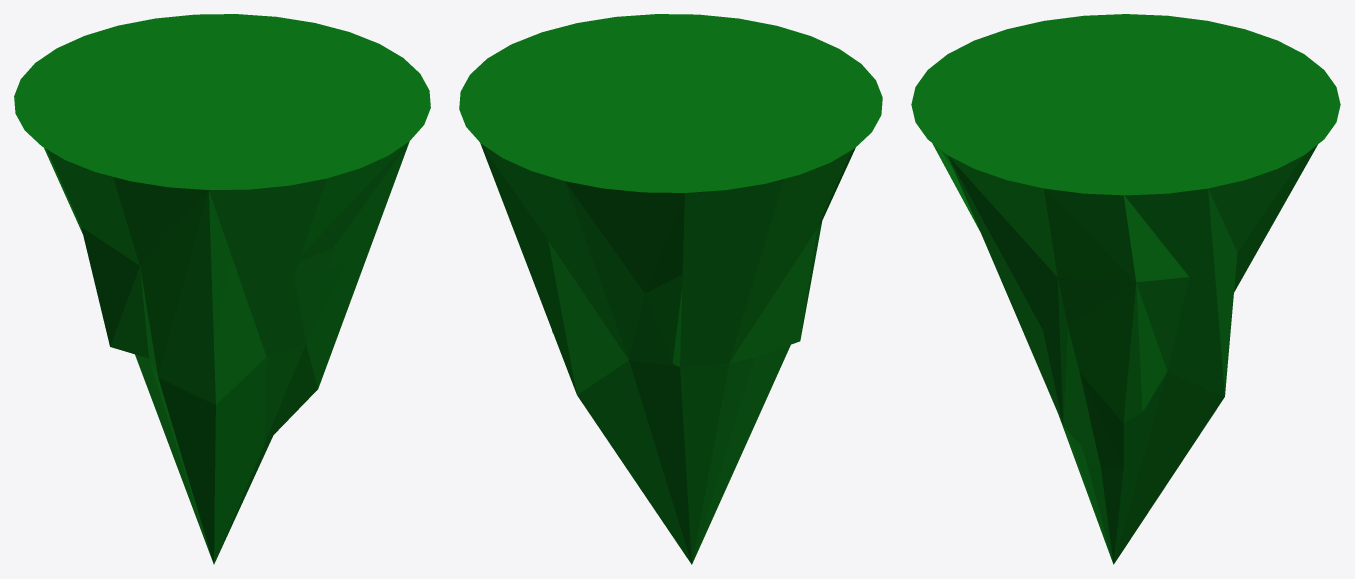
Rendered from floating.glb.
3 renders of one model, left to right at view 1: azimuth 30°, elevation 25°; view 2: azimuth 150°, elevation 25°; view 3: azimuth 270°, elevation 25°, orthographic. The views are drawn at different scales.
Visible parts, largest first — view 1: group1980036612, group1980036612.001; view 2: group1980036612, group1980036612.001; view 3: group1980036612, group1980036612.001.
Boxes of the visible parts, x1,y1,x2,y2 form: group1980036612: (44, 141, 409, 564); group1980036612.001: (14, 14, 430, 189); group1980036612: (480, 143, 855, 564); group1980036612.001: (459, 14, 882, 192); group1980036612: (932, 143, 1317, 564); group1980036612.001: (911, 14, 1340, 195).
Bounding box in the file's own units: 2.1 × 2.52 × 2.1.
